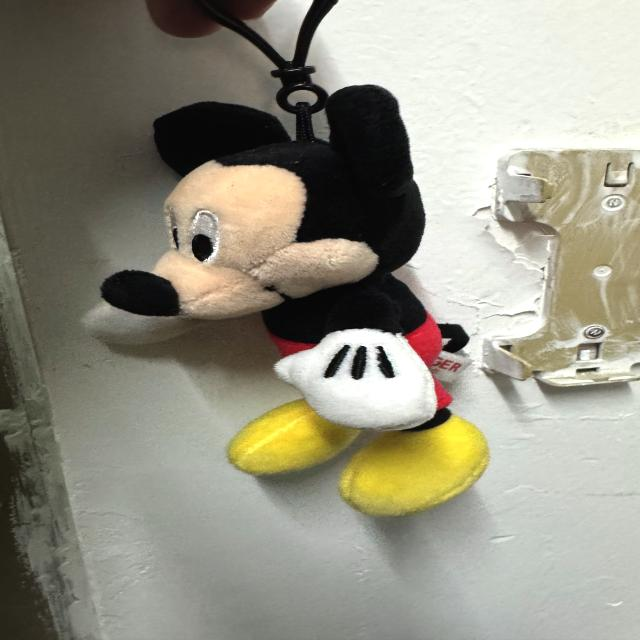mickey: (102, 86, 488, 515)
